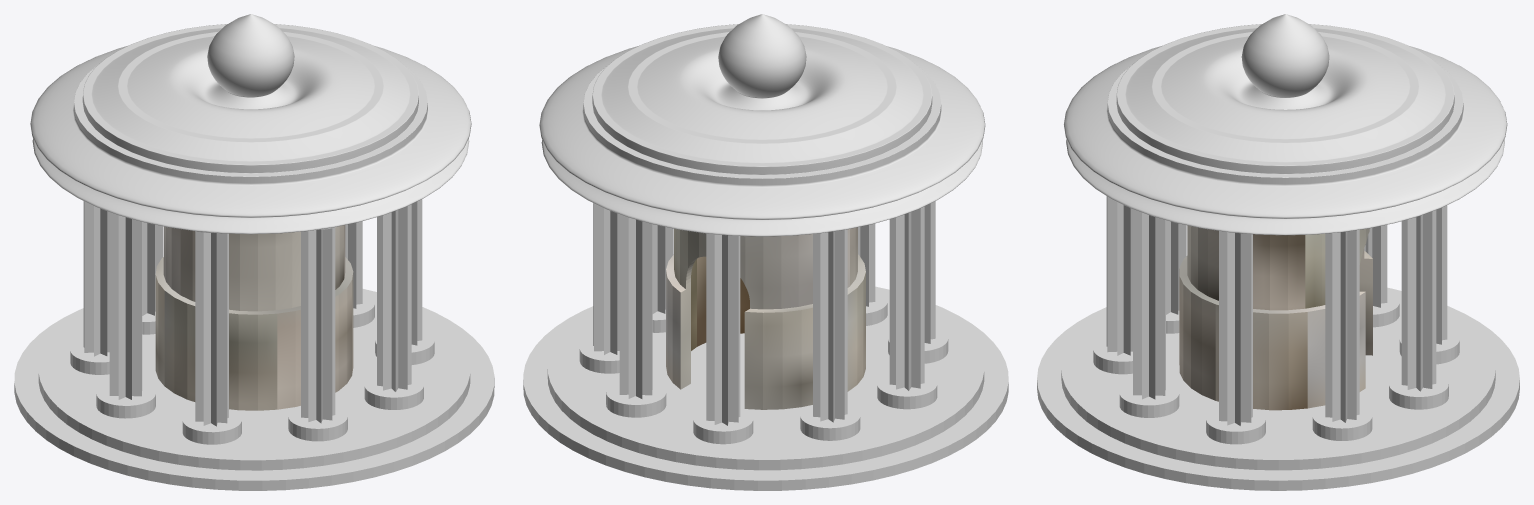
Rendered from lab.fbx.
The picture shows the model from 3 angles, left to right: view 1: azimuth 30°, elevation 25°; view 2: azimuth 150°, elevation 25°; view 3: azimuth 270°, elevation 25°; orthographic projection.
Parts seen in each view (by area): view 1: Крыша, Цоколь, Фасад, Колонна.009, Колонна.008, Колонна.001, Колонна.007, Колонна.006, Колонна.002, Колонна.005, Колонна.003; view 2: Крыша, Цоколь, Фасад, Колонна.005, Колонна.006, Колонна.007, Колонна.004, Колонна.003, Колонна.008, Колонна.002, Колонна.009; view 3: Крыша, Цоколь, Фасад, Колонна.003, Колонна.002, Колонна.004, Колонна.001, Колонна.009, Колонна.005, Колонна.006, Колонна.008.
Boxes of the visible parts, left/top/right/bottom form: Крыша: left=30, top=14, right=471, bottom=234; Цоколь: left=14, top=289, right=494, bottom=490; Фасад: left=155, top=225, right=353, bottom=410; Колонна.009: left=288, top=226, right=347, bottom=441; Колонна.008: left=182, top=231, right=241, bottom=444; Колонна.001: left=364, top=204, right=423, bottom=409; Колонна.007: left=96, top=212, right=155, bottom=418; Колонна.006: left=70, top=201, right=109, bottom=374; Колонна.002: left=375, top=199, right=434, bottom=364; Колонна.005: left=142, top=222, right=162, bottom=334; Колонна.003: left=345, top=221, right=374, bottom=327; Крыша: left=539, top=14, right=985, bottom=236; Цоколь: left=523, top=286, right=1008, bottom=490; Фасад: left=666, top=227, right=865, bottom=409; Колонна.005: left=693, top=233, right=753, bottom=444; Колонна.006: left=800, top=229, right=860, bottom=440; Колонна.007: left=877, top=206, right=937, bottom=409; Колонна.004: left=606, top=214, right=666, bottom=417; Колонна.003: left=579, top=203, right=619, bottom=373; Колонна.008: left=888, top=201, right=948, bottom=363; Колонна.002: left=652, top=224, right=673, bottom=332; Колонна.009: left=858, top=223, right=887, bottom=325; Крыша: left=1063, top=14, right=1507, bottom=235; Цоколь: left=1037, top=287, right=1519, bottom=490; Фасад: left=1179, top=225, right=1372, bottom=410; Колонна.003: left=1312, top=230, right=1372, bottom=440; Колонна.002: left=1206, top=231, right=1265, bottom=444; Колонна.004: left=1389, top=210, right=1448, bottom=409; Колонна.001: left=1119, top=209, right=1179, bottom=417; Колонна.009: left=1093, top=196, right=1132, bottom=374; Колонна.005: left=1399, top=205, right=1459, bottom=364; Колонна.006: left=1364, top=225, right=1399, bottom=327; Колонна.008: left=1166, top=220, right=1186, bottom=333.
Bounding box in the file's own units: 680 × 582 × 680.
